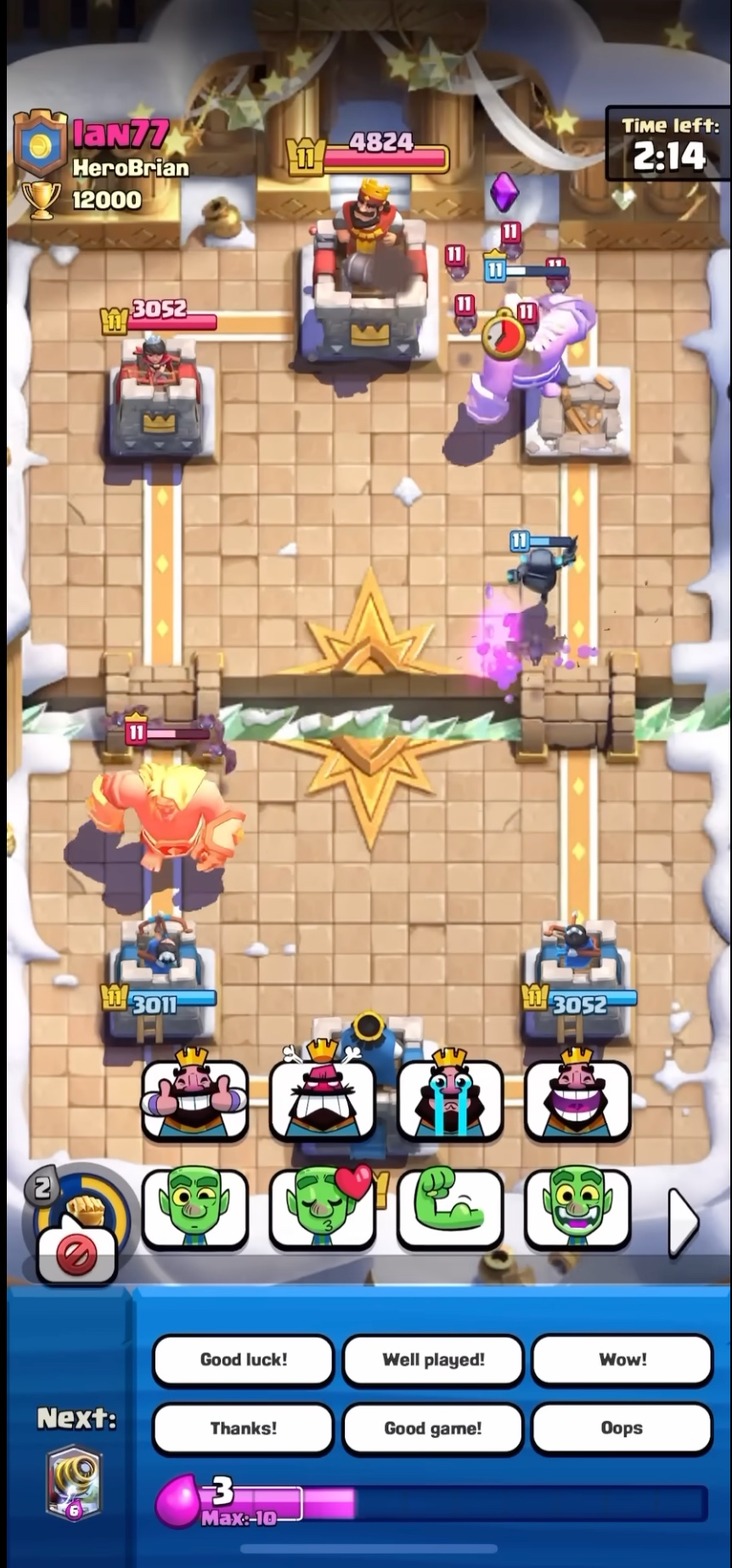bats: (435, 238, 478, 285), (502, 298, 545, 345), (489, 213, 532, 260), (445, 289, 487, 336), (533, 250, 575, 297)
hero-giant: (86, 708, 246, 900)
